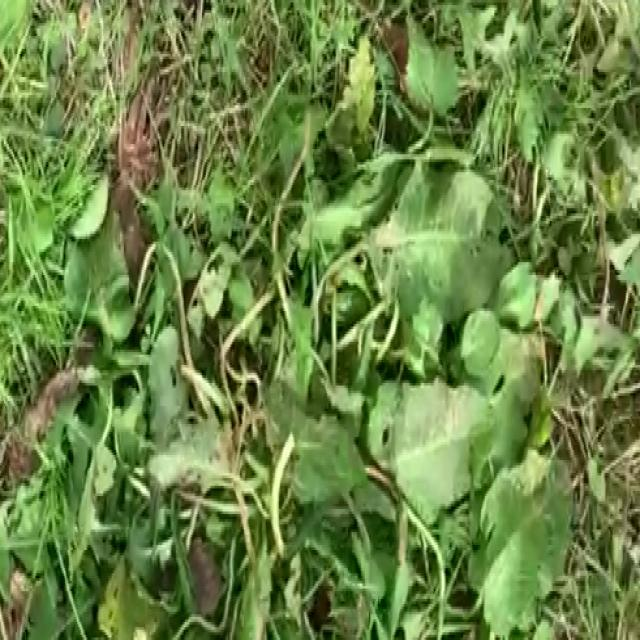organic waste: (51, 69, 605, 640)
